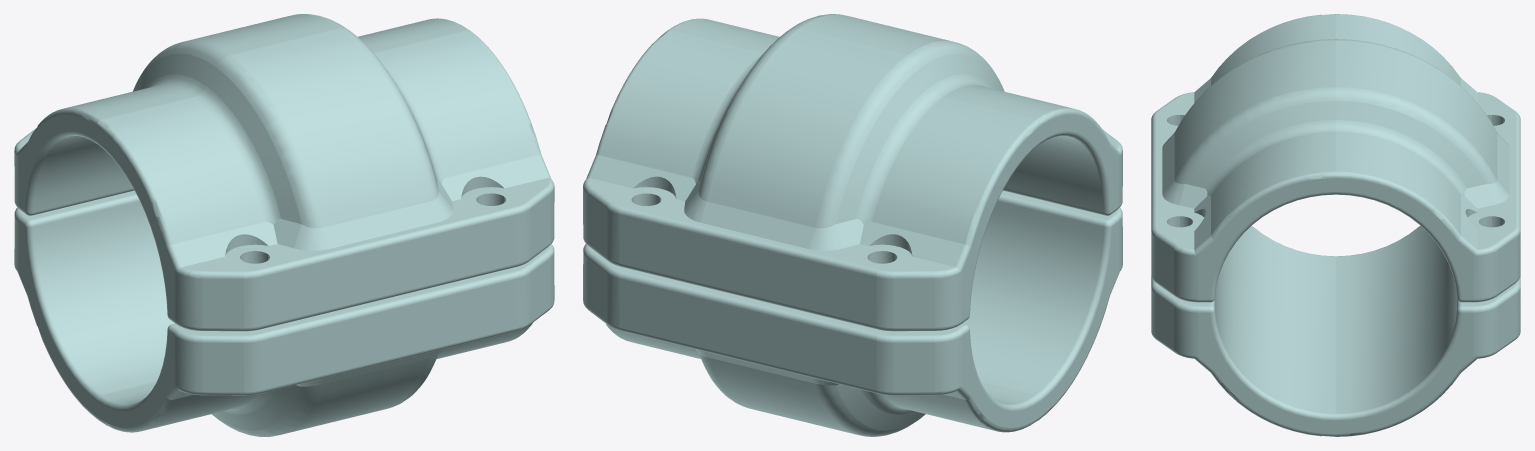
The picture shows the model from 3 angles, left to right: view 1: azimuth 30°, elevation 25°; view 2: azimuth 150°, elevation 25°; view 3: azimuth 270°, elevation 25°; orthographic projection. The views are drawn at different scales.
Bounding box in the file's own units: 79.5 × 74.3 × 77.
